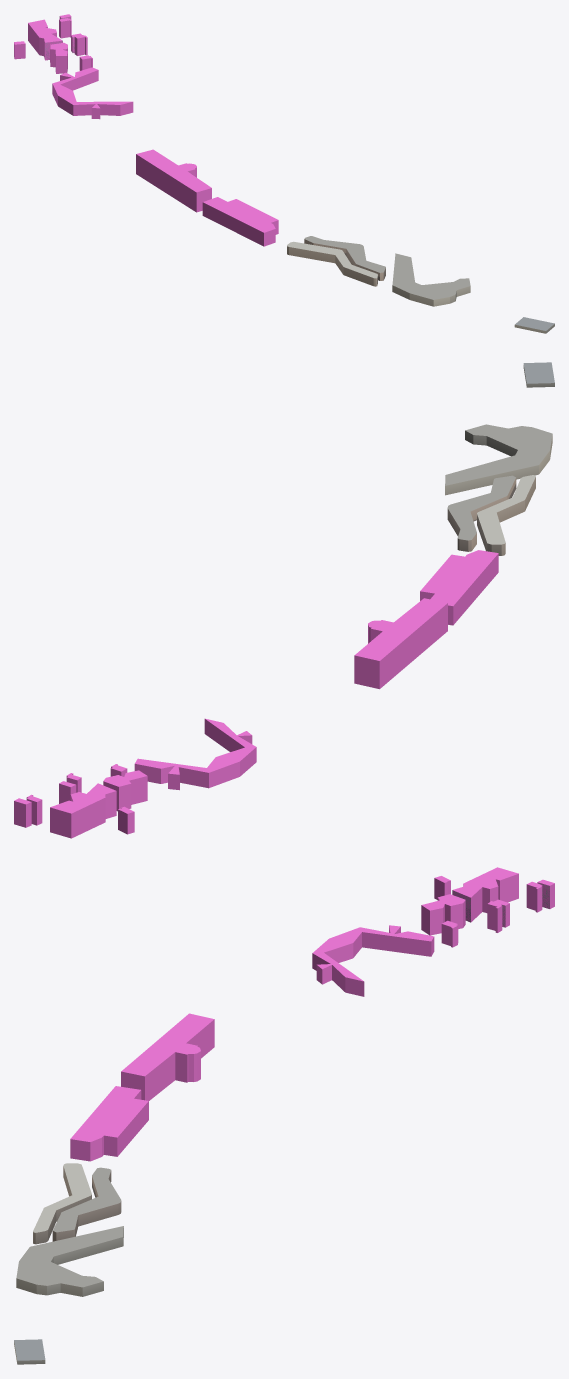
File: bld_4_4.fbx
3 views of the same model, one above another, from view 1: azimuth 30°, elevation 25°; view 2: azimuth 150°, elevation 25°; view 3: azimuth 330°, elevation 25° (orthographic). The views are drawn at different scales.
Visible parts, largest first — view 1: bld_4_4_COL, bld_4_4_LOD0; view 2: bld_4_4_COL, bld_4_4_LOD0; view 3: bld_4_4_COL, bld_4_4_LOD0.
Part boxes in pixels (left/top/right/bottom): bld_4_4_COL: left=14, top=14, right=278, bottom=246; bld_4_4_LOD0: left=45, top=18, right=554, bottom=333; bld_4_4_COL: left=14, top=550, right=498, bottom=838; bld_4_4_LOD0: left=445, top=362, right=554, bottom=555; bld_4_4_COL: left=70, top=867, right=554, bottom=1161; bld_4_4_LOD0: left=14, top=883, right=549, bottom=1364.
Size of what is drawn, in the model's own units: 406 by 49.08 by 1910.
